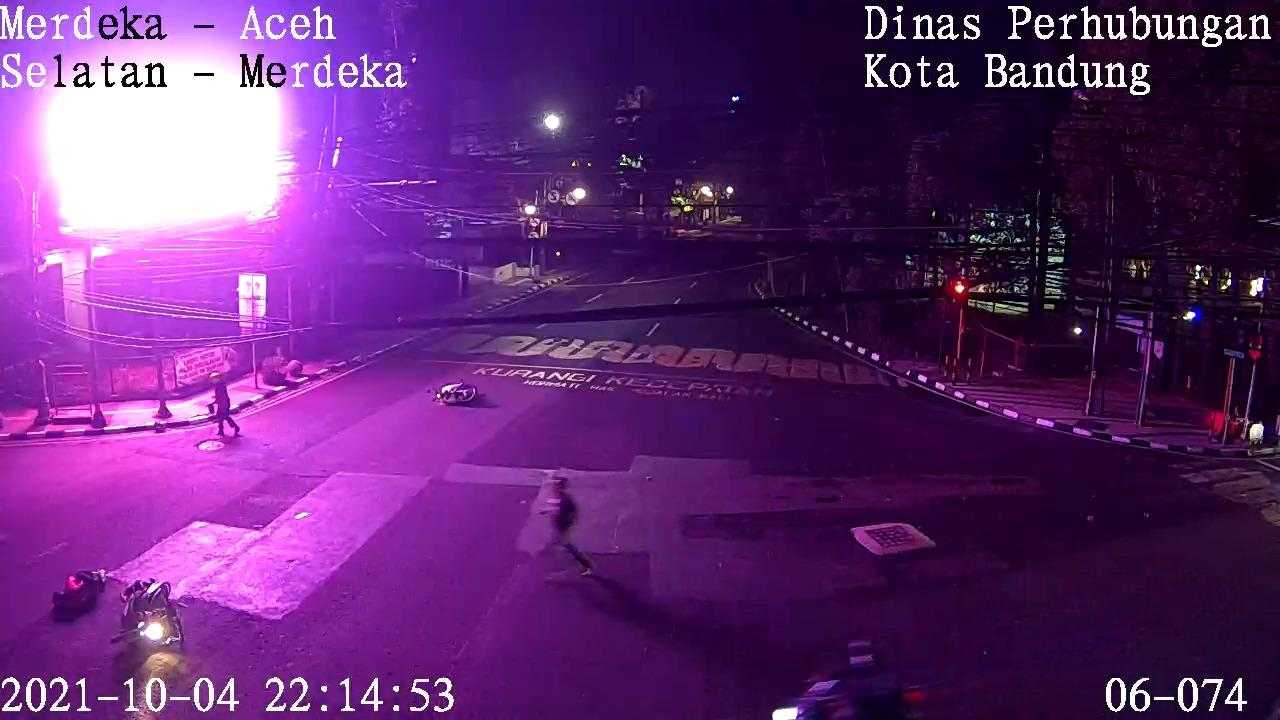accident: (33, 557, 117, 637)
